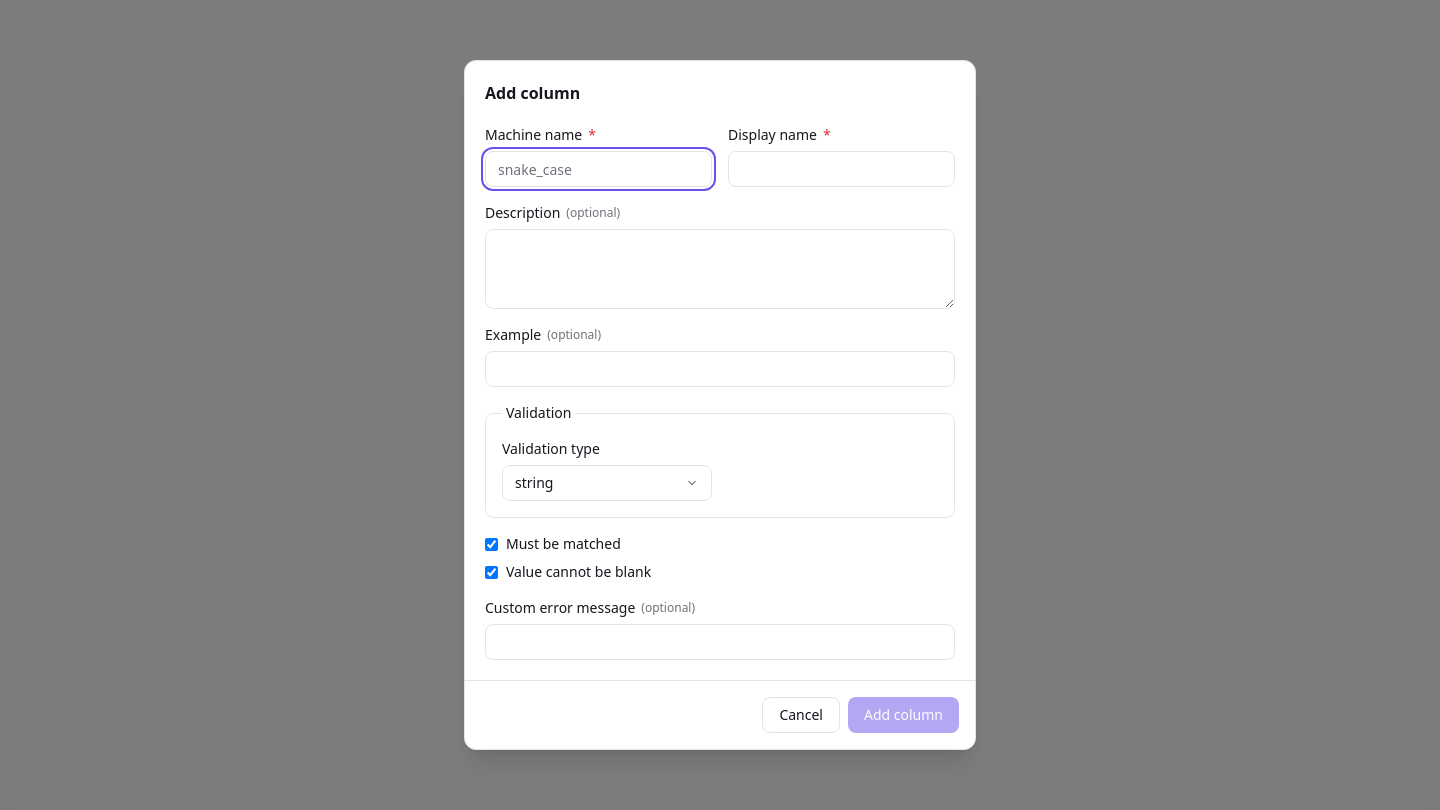
Scenario: ColumnEditor › shows an inline error when the machine name doesn't match the regex
Type "Bad Name" into the field labelled "Machine name *" at {"x": 598, "y": 169}, box [485, 151, 712, 187]
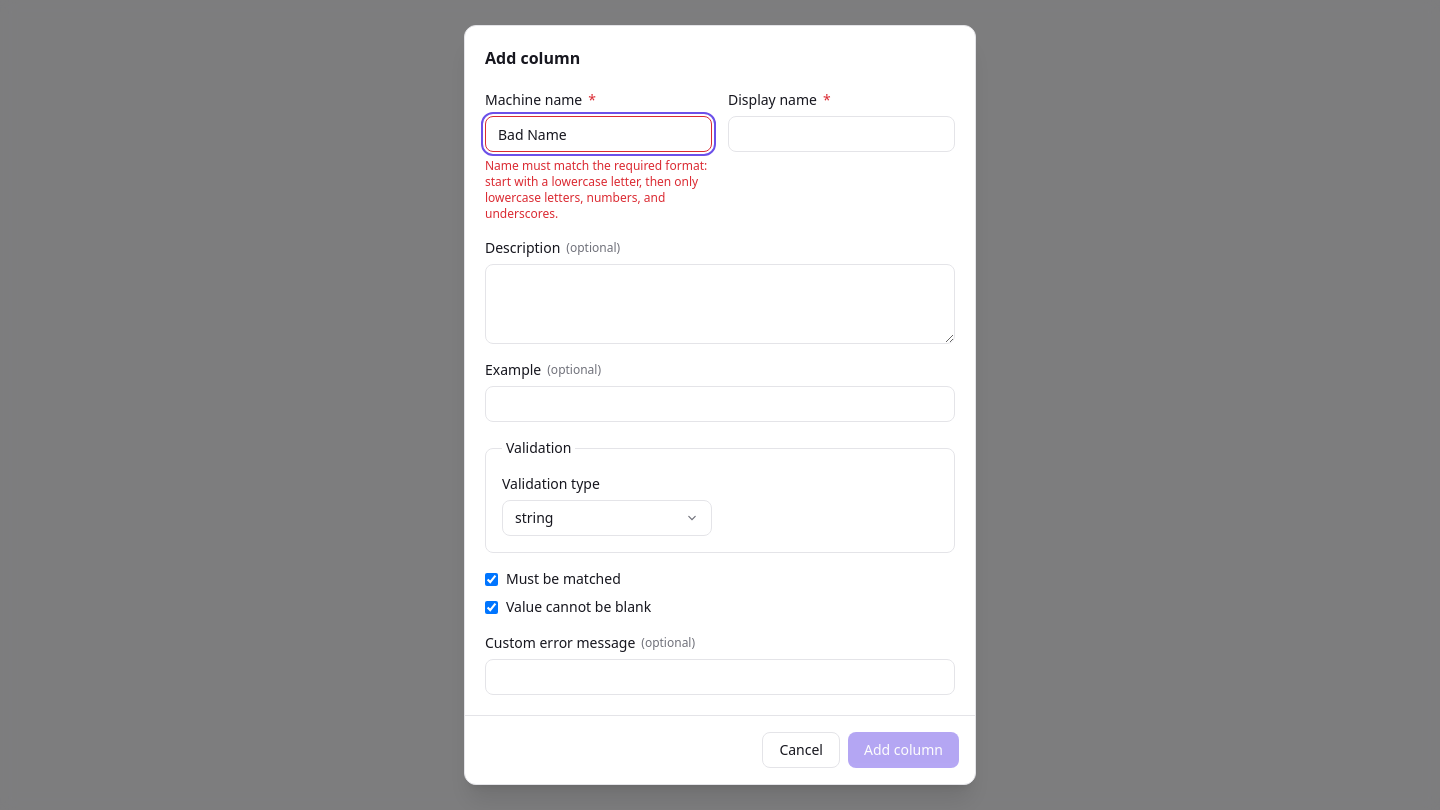
Expected: the button "Add column" is disabled, [848, 732, 959, 768]
Result: the text "must match" is shown at [485, 157, 707, 222]
